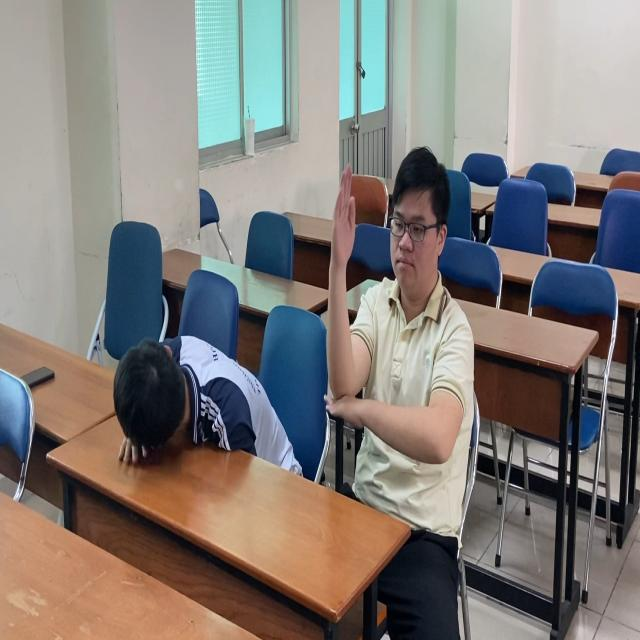raise_hand: (327, 147, 480, 508)
sleep: (103, 320, 329, 509)
